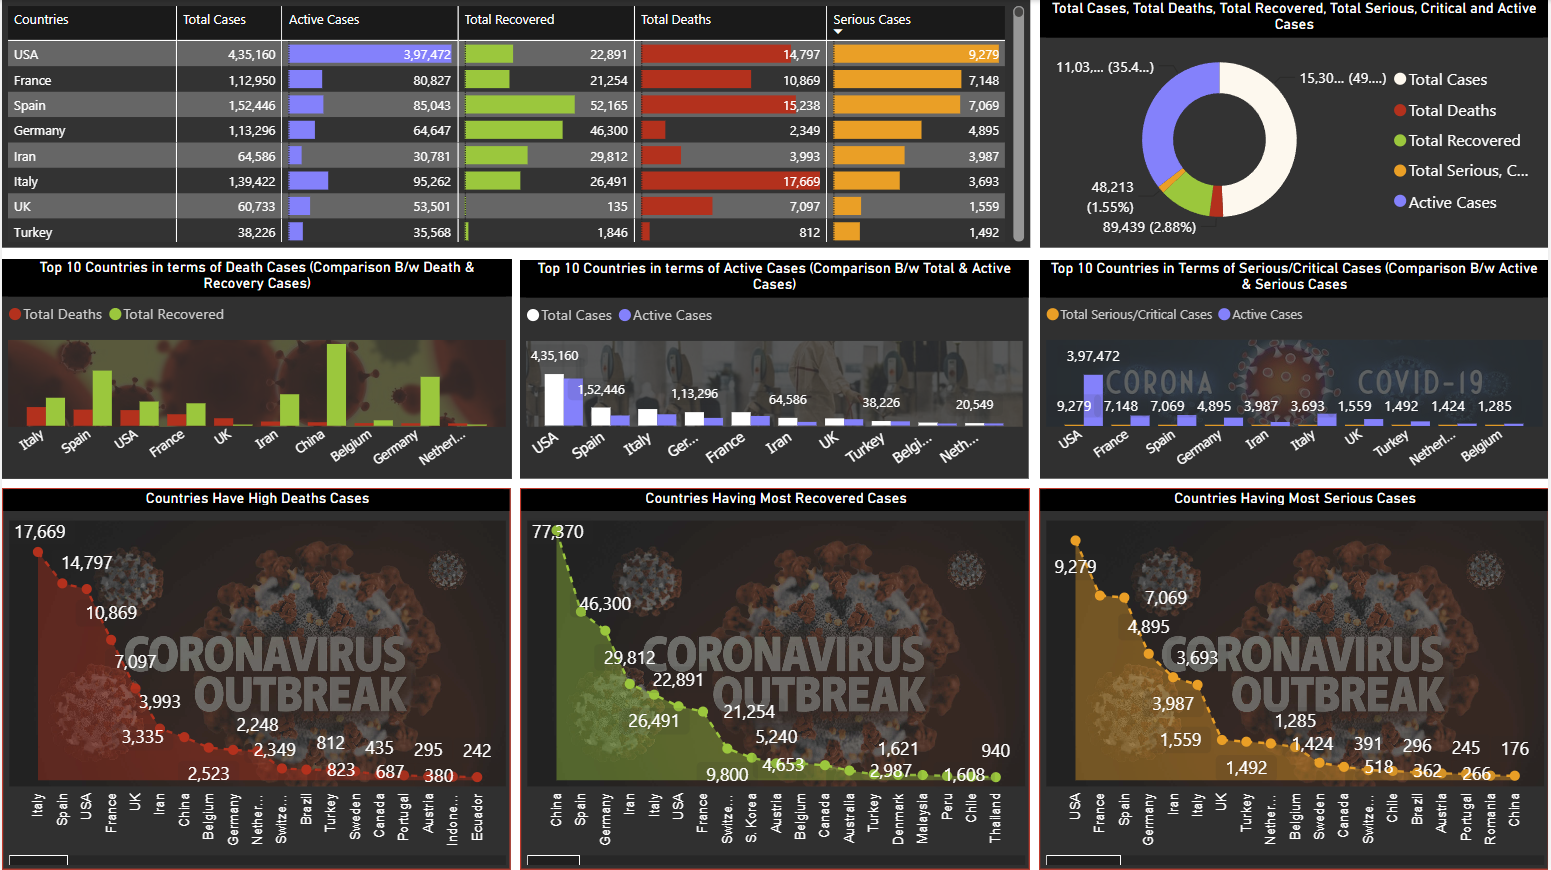

What the dashboard file says about the page in this screenshot:
{"tool":"powerbi","page":{"name":"Country-Wise Comparison","canvas":[1280,720],"ordinal":3},"visuals":[{"type":"clusteredColumnChart","title":"Top 10 Countries in terms of Death Cases (Comparison B/w Death & Recovery Cases)","fields":{"Category":["CoronaData.Country, Other"],"Y":["Sum(Coronavirus Data.Total Deaths)","Coronavirus Data.Recovered"]},"box":[0,214,422,182],"z":0},{"type":"areaChart","title":"Countries Have High Deaths Cases","fields":{"Category":["CoronaData.Country, Other"],"Y":["Sum(Coronavirus Data.Total Deaths)"]},"box":[0,404,421,316],"z":1000},{"type":"areaChart","title":"Countries Having Most Serious Cases","fields":{"Category":["CoronaData.Country, Other"],"Y":["Sum(Coronavirus Data.Total Serious, Critical)"]},"box":[858,404,422,316],"z":2000},{"type":"areaChart","title":"Countries Having Most Recovered Cases","fields":{"Category":["CoronaData.Country, Other"],"Y":["Coronavirus Data.Recovered"]},"box":[429,404,422,316],"z":3000},{"type":"pivotTable","fields":{"Rows":["Coronavirus Data.Countries"],"Values":["Sum(Coronavirus Data.Total Cases)","Sum(Coronavirus Data.Active Cases)","Sum(Coronavirus Data.Total Recovered)","Sum(Coronavirus Data.Total Deaths)","Sum(Coronavirus Data.Total Serious, Critical)"]},"box":[0,0,851,205],"z":4000},{"type":"clusteredColumnChart","title":"Top 10 Countries in Terms of Serious/Critical Cases (Comparison B/w Active & Serious Cases","fields":{"Category":["CoronaData.Country, Other"],"Y":["Sum(Coronavirus Data.Total Serious, Critical)","Sum(Coronavirus Data.Active Cases)"]},"box":[859,215,421,181],"z":5000},{"type":"clusteredColumnChart","title":"Top 10 Countries in terms of Active Cases (Comparison B/w Total & Active Cases)","fields":{"Category":["CoronaData.Country, Other"],"Y":["Sum(Coronavirus Data.Total Cases)","Sum(Coronavirus Data.Active Cases)"]},"box":[429,215,421,181],"z":6000},{"type":"donutChart","fields":{"Y":["Sum(Coronavirus Data.Total Cases)","Sum(Coronavirus Data.Total Deaths)","Sum(Coronavirus Data.Total Recovered)","Sum(Coronavirus Data.Total Serious, Critical)","Sum(Coronavirus Data.Active Cases)"]},"box":[859,0,421,205],"z":7000}]}

Visuals, with their boxes in screenshot pixels (x1, y1, x2, y2), scaled from the page's 1280x720 canvas onto the 1551x870 screenshot:
"Top 10 Countries in terms of Death Cases (Comparison B/w Death & Recovery Cases)" clusteredColumnChart: [left=0, top=259, right=511, bottom=478]
"Countries Have High Deaths Cases" areaChart: [left=0, top=488, right=510, bottom=869]
"Countries Having Most Serious Cases" areaChart: [left=1040, top=488, right=1550, bottom=869]
"Countries Having Most Recovered Cases" areaChart: [left=520, top=488, right=1031, bottom=869]
pivotTable - Coronavirus Data.Countries x Sum(Coronavirus Data.Total Cases): [left=0, top=0, right=1031, bottom=248]
"Top 10 Countries in Terms of Serious/Critical Cases (Comparison B/w Active & Serious Cases" clusteredColumnChart: [left=1041, top=260, right=1550, bottom=478]
"Top 10 Countries in terms of Active Cases (Comparison B/w Total & Active Cases)" clusteredColumnChart: [left=520, top=260, right=1030, bottom=478]
donutChart - Sum(Coronavirus Data.Total Cases) x Sum(Coronavirus Data.Total Deaths): [left=1041, top=0, right=1550, bottom=248]
